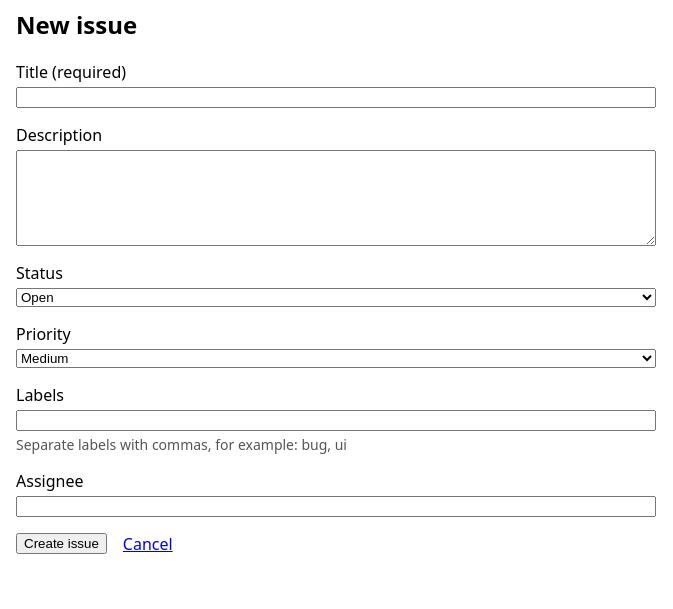
IssueCreateView › shows validation errors for unknown fields in the summary
In the field with id "issue-title": (336, 97) [16, 87, 656, 108], type "Valid title"
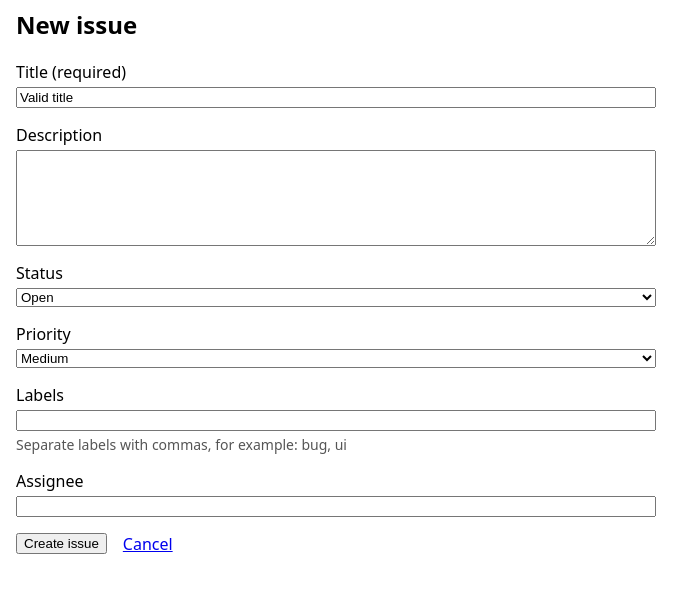
Submit the form
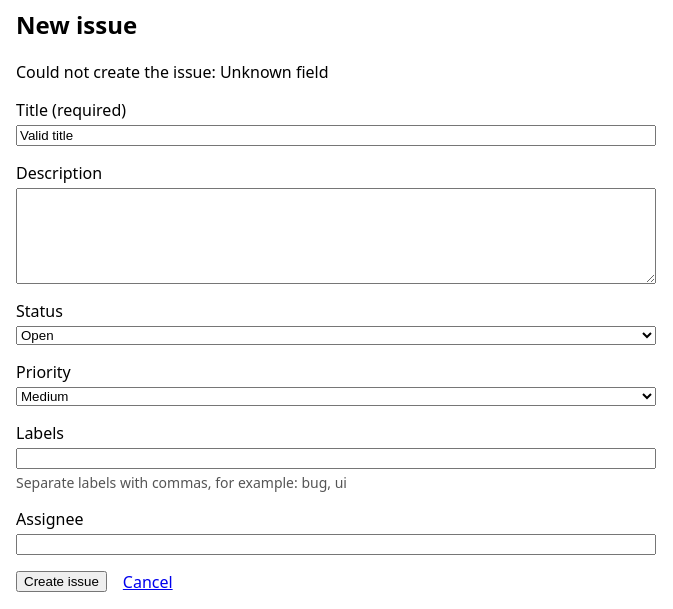
Expected: the message "Could not create the issue: Unknown field" is shown, [16, 61, 328, 83]
